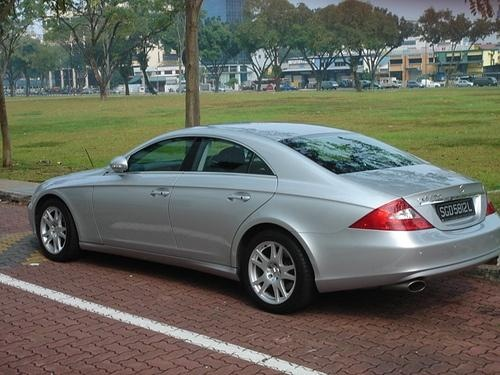car: (27, 120, 500, 314)
